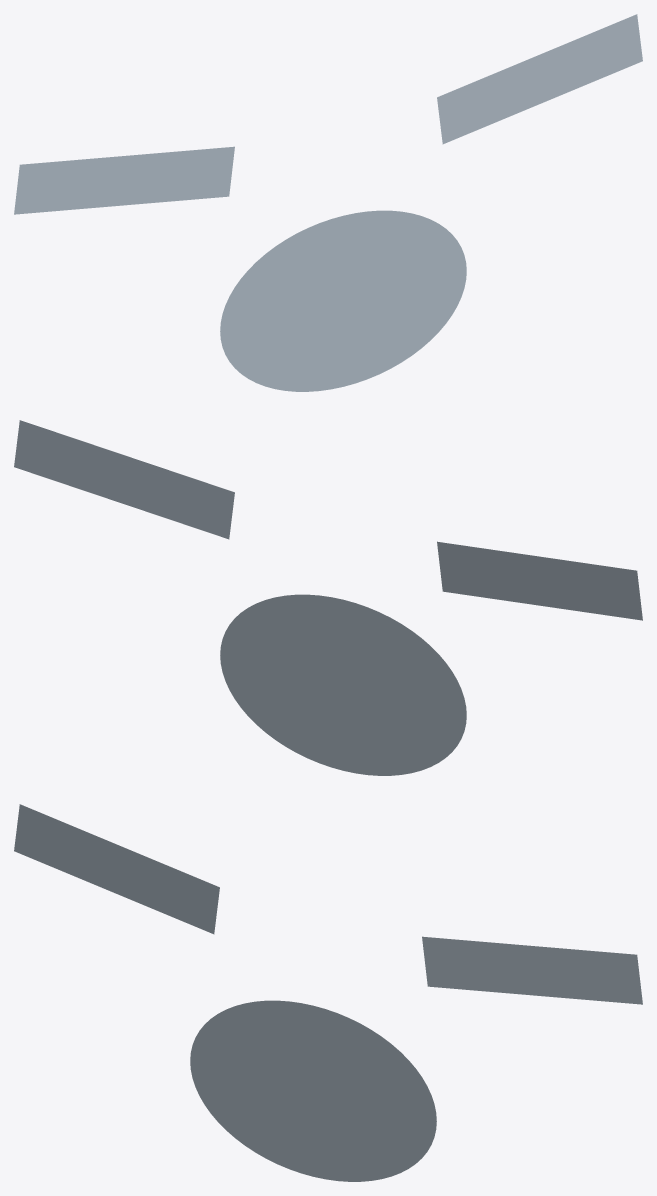
The model's file is HuTao_SpiritSoother_SpiritFace.fbx.
The picture shows the model from 3 angles, top to bottom: view 1: azimuth 30°, elevation 25°; view 2: azimuth 150°, elevation 25°; view 3: azimuth 330°, elevation 25°; orthographic projection.
Parts seen in each view (by area): view 1: PART_SpiritHappyMouth, PART_SpiritClosedEye_-1, PART_SpiritClosedEye_1; view 2: PART_SpiritHappyMouth, PART_SpiritClosedEye_1, PART_SpiritClosedEye_-1; view 3: PART_SpiritHappyMouth, PART_SpiritClosedEye_1, PART_SpiritClosedEye_-1.
Part boxes in pixels (x1,y1,x2,y2): PART_SpiritHappyMouth: (220, 210, 466, 391); PART_SpiritClosedEye_-1: (14, 146, 234, 214); PART_SpiritClosedEye_1: (437, 14, 642, 144); PART_SpiritHappyMouth: (220, 594, 466, 775); PART_SpiritClosedEye_1: (14, 420, 234, 539); PART_SpiritClosedEye_-1: (437, 541, 642, 620); PART_SpiritHappyMouth: (190, 1000, 436, 1181); PART_SpiritClosedEye_1: (422, 936, 642, 1004); PART_SpiritClosedEye_-1: (14, 804, 219, 934).
Bounding box in the file's own units: 48.45 × 21.09 × 2.
